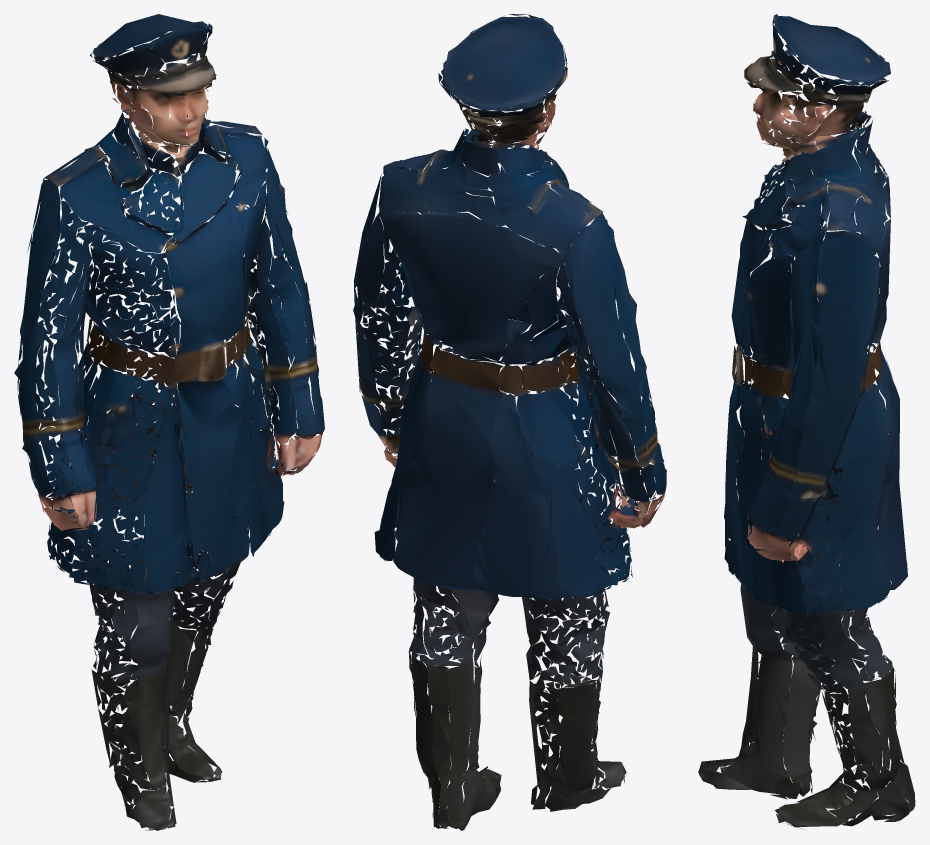
Rendered from char_soldier_blue.glb.
The picture shows the model from 3 angles, left to right: view 1: azimuth 30°, elevation 25°; view 2: azimuth 150°, elevation 25°; view 3: azimuth 270°, elevation 25°; orthographic projection. The views are drawn at different scales.
Parts seen in each view (by area): view 1: geometry_0; view 2: geometry_0; view 3: geometry_0.
Boxes of the visible parts, x1,y1,x2,y2 form: geometry_0: [14, 14, 324, 830]; geometry_0: [353, 14, 666, 830]; geometry_0: [698, 14, 915, 829].
Size of the model in its own units: 0.7132 by 1.8 by 0.4572.
Materials: 1 (1 with a texture image).
